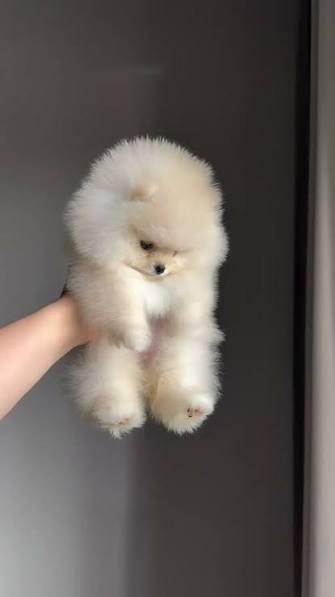puppy-dog: (57, 136, 229, 441)
